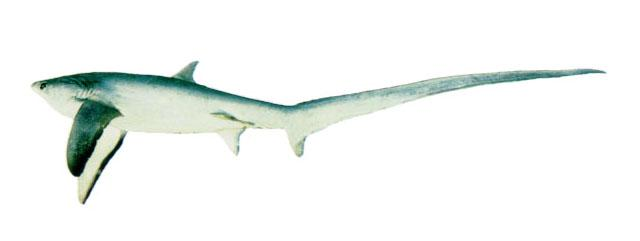Sirip Dada: (56, 99, 130, 212)
Sirip Ekor: (283, 64, 612, 161)
Sirip Perut: (204, 106, 256, 164)
Sirip Punggung: (164, 52, 206, 94)
